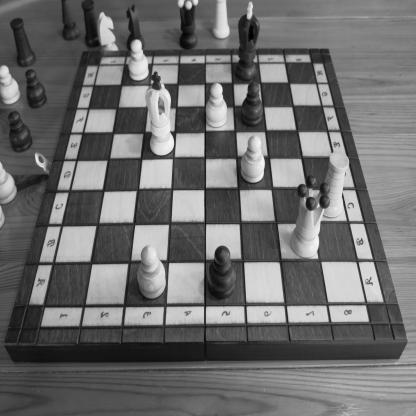black-bishop: (61, 0, 80, 39)
black-king: (235, 0, 260, 82)
black-knight: (126, 1, 144, 50)
black-pawn: (207, 244, 236, 300), (7, 110, 33, 154), (240, 81, 264, 127), (24, 68, 48, 110)
black-queen: (177, 0, 199, 50)
black-rook: (10, 17, 36, 68), (79, 0, 100, 47)
white-king: (145, 70, 175, 156)
white-knight: (96, 10, 118, 50)
white-pawn: (137, 244, 166, 301), (240, 134, 266, 184), (205, 82, 228, 128), (129, 39, 149, 81), (0, 64, 21, 104), (1, 161, 17, 205)
white-queen: (290, 174, 330, 259)
white-rook: (324, 150, 350, 219), (211, 0, 231, 40)
